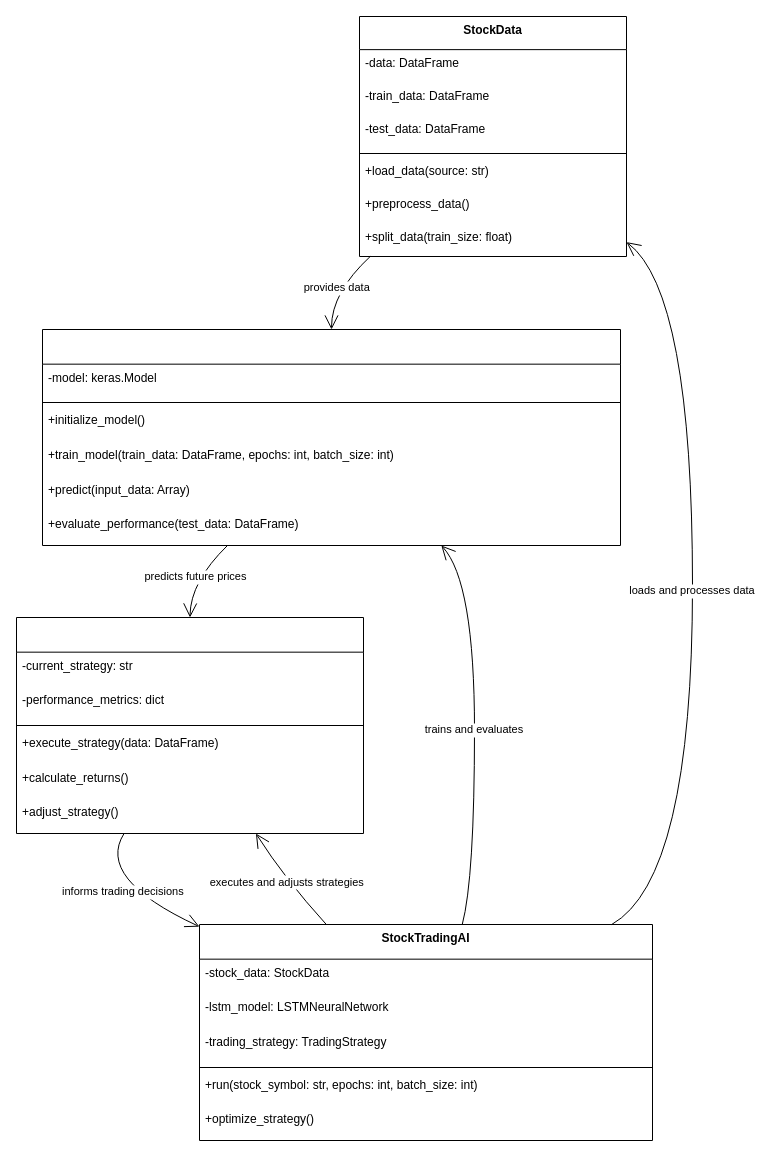
This 773x1157 diagram has some shape labels left out. The box of each missing label's shape, as (x1, y1, x2, y2) in pixels:
LSTMNeuralNetwork: (42, 328, 620, 546)
TradingStrategy: (16, 616, 364, 834)
